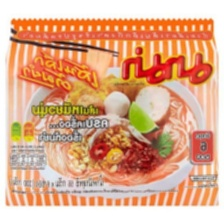snack: (0, 10, 224, 211)
